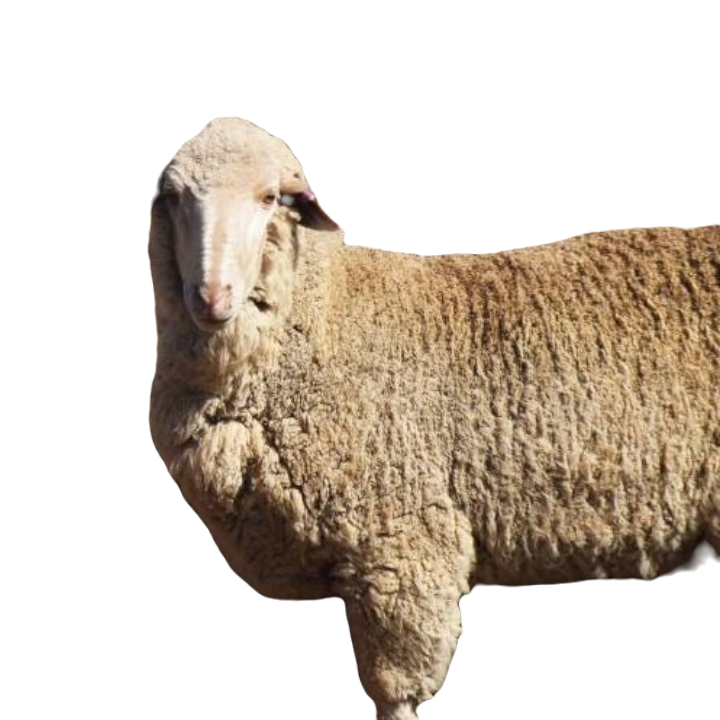Sheep: (145, 110, 719, 719)
